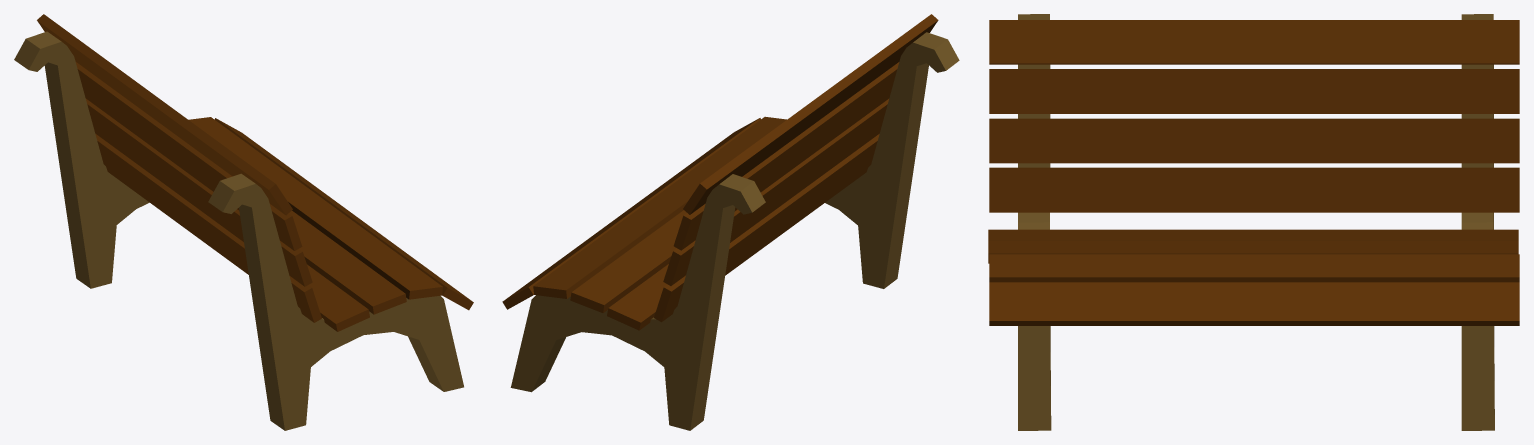
File: Bench.fbx
3 views of the same model, side by side, from view 1: azimuth 30°, elevation 25°; view 2: azimuth 150°, elevation 25°; view 3: azimuth 270°, elevation 25° (orthographic). The views are drawn at different scales.
Visible parts, largest first — view 1: Cube.001; view 2: Cube.001; view 3: Cube.001.
Part boxes in pixels (x1,y1,x2,y2): Cube.001: (14,14,473,430); Cube.001: (502,14,959,430); Cube.001: (988,14,1519,430).
Bounding box in the file's own units: 500 × 516 × 832.
